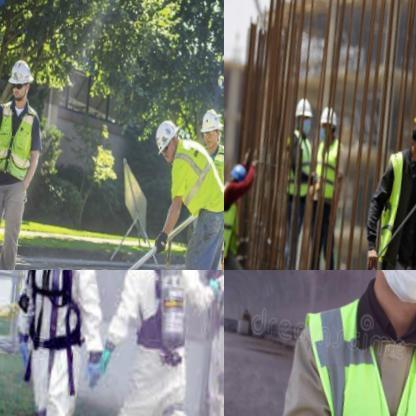vest: (277, 281, 415, 415), (0, 270, 111, 415), (103, 270, 214, 415), (363, 142, 415, 269), (187, 270, 223, 415), (160, 138, 223, 218), (0, 97, 40, 182), (271, 128, 315, 201), (303, 134, 341, 201), (224, 178, 242, 269), (193, 140, 223, 193)
